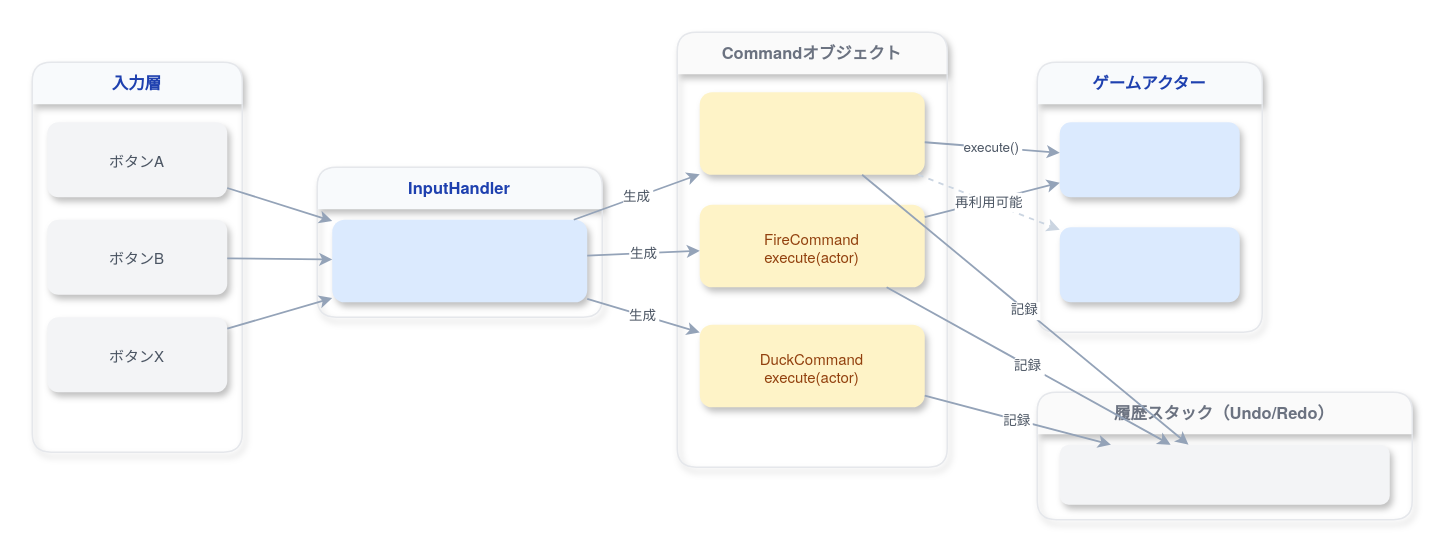
Some shapes in this 1448 by 557 pixel diagram are drawn without their labels. Each missing label, with the centre of its shape:
"[Cmd1, Cmd2, Cmd3...] execute() / undo()" goes at pixel 1225 476.
"AIキャラ" goes at pixel 1150 266.
"handleInput() ボタン→Command変換" goes at pixel 461 262.
"JumpCommand execute(actor)" goes at pixel 813 135.
"プレイヤー" goes at pixel 1150 161.
